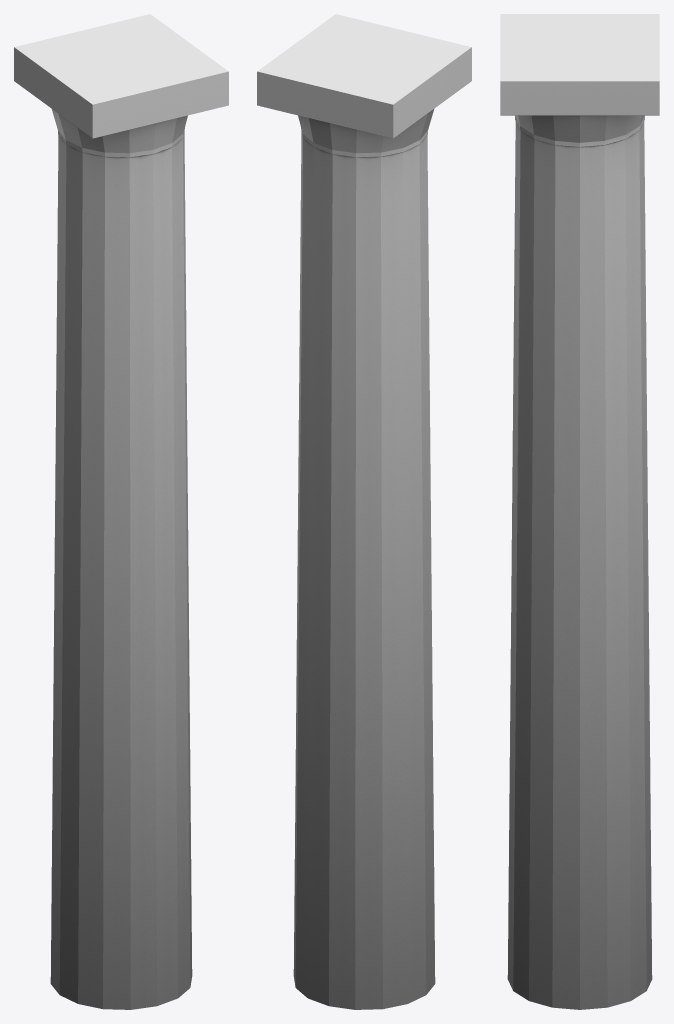
The model's file is Doric pillar.fbx.
The picture shows the model from 3 angles, left to right: view 1: azimuth 30°, elevation 25°; view 2: azimuth 150°, elevation 25°; view 3: azimuth 270°, elevation 25°; orthographic projection.
Parts seen in each view (by area): view 1: Lowpoly pillar; view 2: Lowpoly pillar; view 3: Lowpoly pillar.
Part boxes in pixels (left/top/right/bottom): Lowpoly pillar: left=14, top=14, right=228, bottom=1009; Lowpoly pillar: left=257, top=14, right=471, bottom=1009; Lowpoly pillar: left=500, top=14, right=659, bottom=1009.
Bounding box in the file's own units: 0.8954 × 5.79 × 0.8954.
